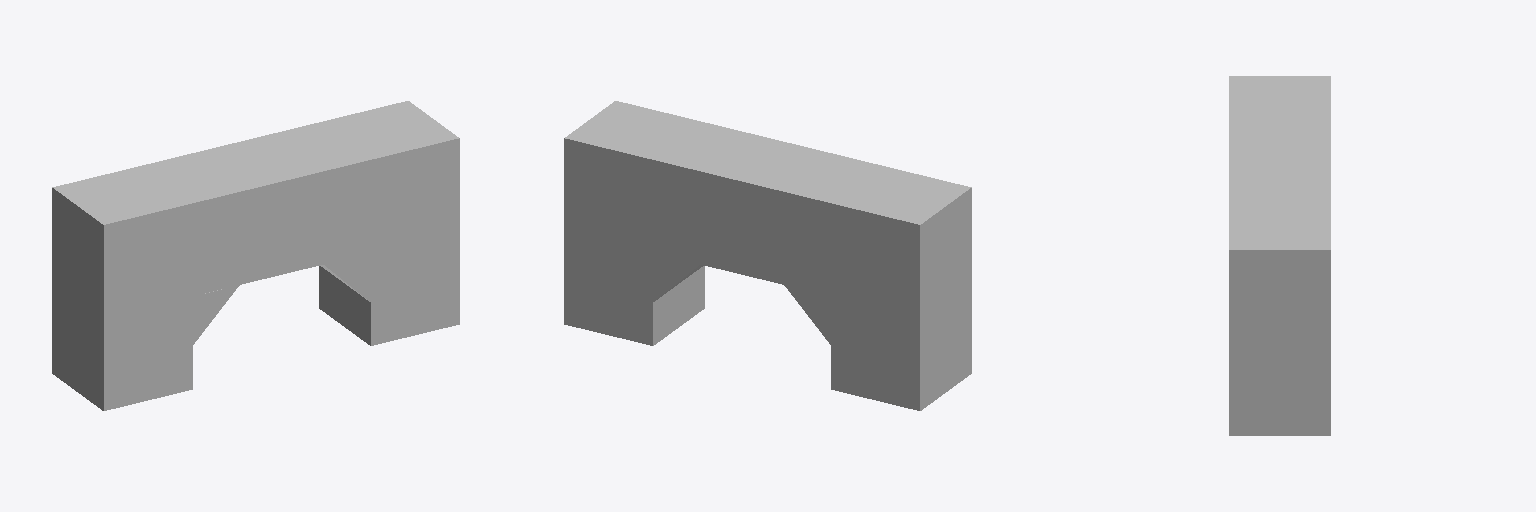
File: arch1.obj
The picture shows the model from 3 angles: view 1: azimuth 30°, elevation 25°; view 2: azimuth 150°, elevation 25°; view 3: azimuth 270°, elevation 25°; orthographic projection.
Parts seen in each view (by area): view 1: Object.1; view 2: Object.1; view 3: Object.1.
Boxes of the visible parts, box(x1,y1,x2,y2) form: Object.1: box(52, 101, 459, 410); Object.1: box(564, 101, 971, 410); Object.1: box(1229, 76, 1330, 435).
Bounding box in the file's own units: 4 × 2 × 1.